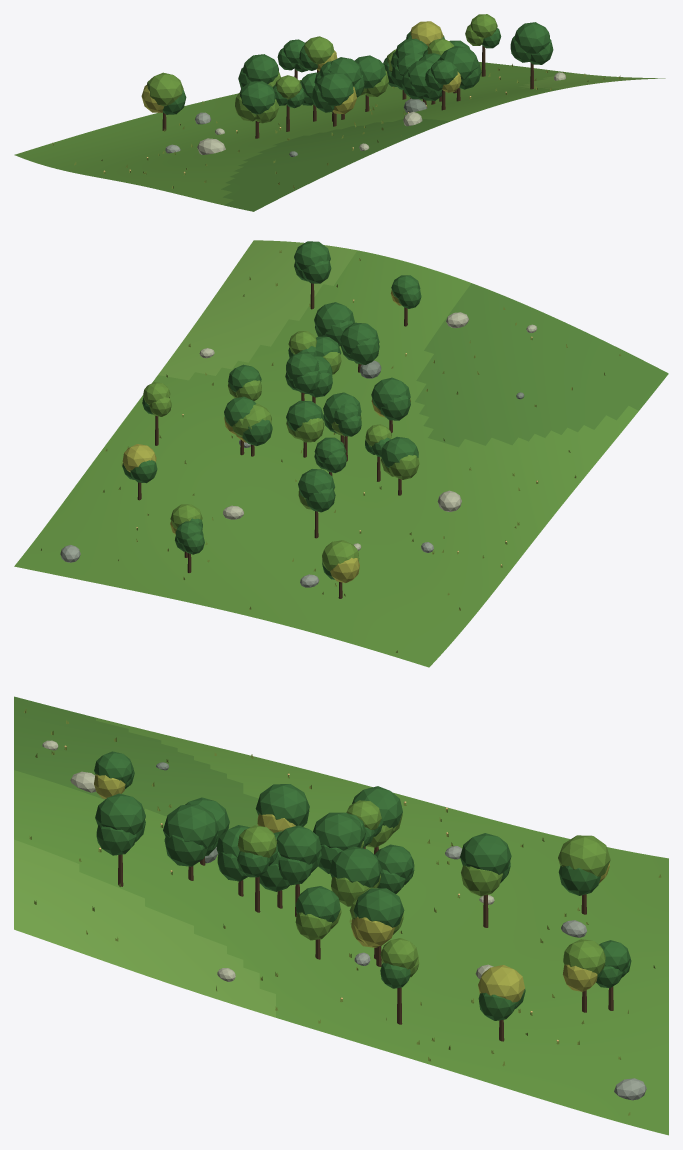
File: Chunk_X2_Y0_Z3.fbx
3 renders of one model, top to bottom at view 1: azimuth 30°, elevation 25°; view 2: azimuth 150°, elevation 25°; view 3: azimuth 270°, elevation 25°, orthographic. The views are drawn at different scales.
Visible parts, largest first — view 1: Terrain.041, Canopies.040, Rocks.041, Trunks.040, GroundCover.041; view 2: Terrain.041, Canopies.040, Rocks.041, Trunks.040; view 3: Terrain.041, Canopies.040, Rocks.041, Trunks.040, GroundCover.041.
Part boxes in pixels (box(x1,y1,x2,y2)): Terrain.041: box(14, 62, 665, 211); Canopies.040: box(141, 14, 553, 123); Rocks.041: box(165, 72, 565, 156); Trunks.040: box(162, 45, 533, 138); GroundCover.041: box(52, 64, 627, 188); Terrain.041: box(14, 240, 668, 667); Canopies.040: box(122, 241, 421, 582); Rocks.041: box(60, 312, 537, 587); Trunks.040: box(137, 283, 407, 598); Terrain.041: box(14, 696, 668, 1135); Canopies.040: box(94, 751, 631, 1020); Rocks.041: box(42, 740, 646, 1100); Trunks.040: box(118, 846, 613, 1041); GroundCover.041: box(23, 708, 661, 1115).
Bounding box in the file's own units: 100 × 46.22 × 100.
